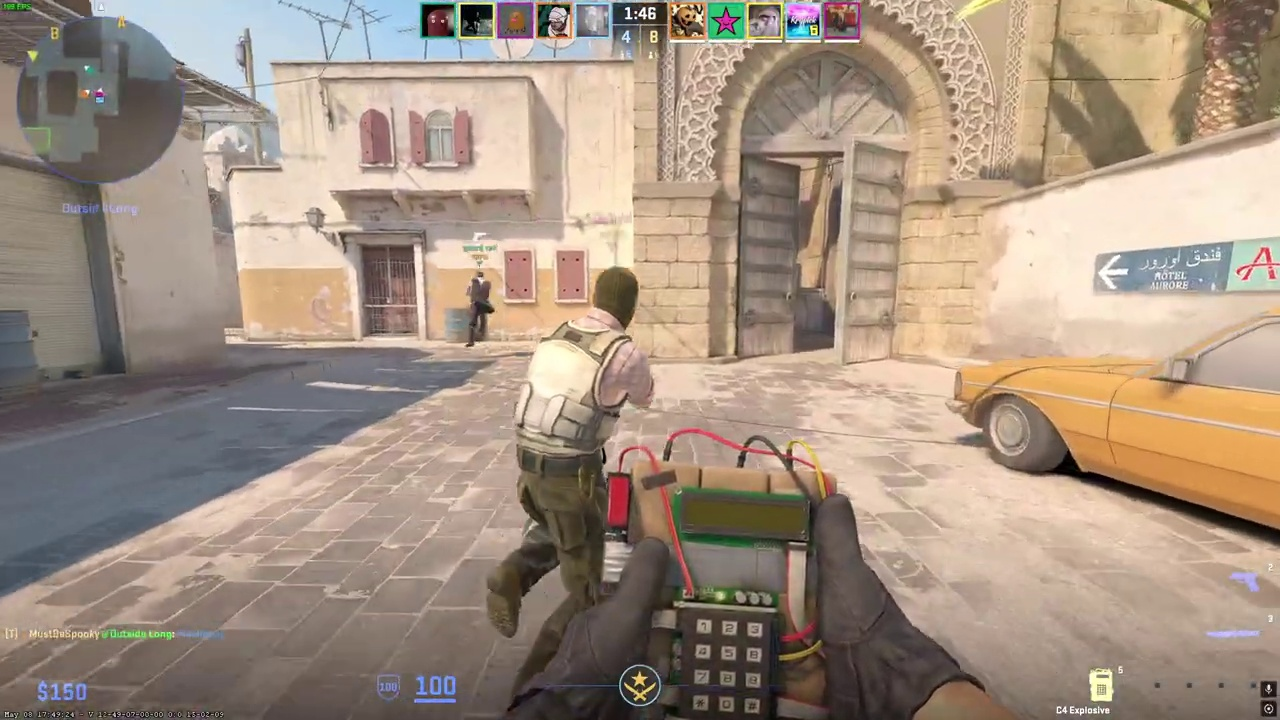Terrorist: (487, 267, 655, 646), (465, 271, 494, 347)
